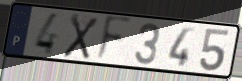3: (133, 21, 161, 65)
4: (31, 11, 60, 57), (166, 25, 194, 69)
5: (198, 27, 231, 73)
F: (93, 14, 134, 64)
X: (61, 12, 100, 62)
